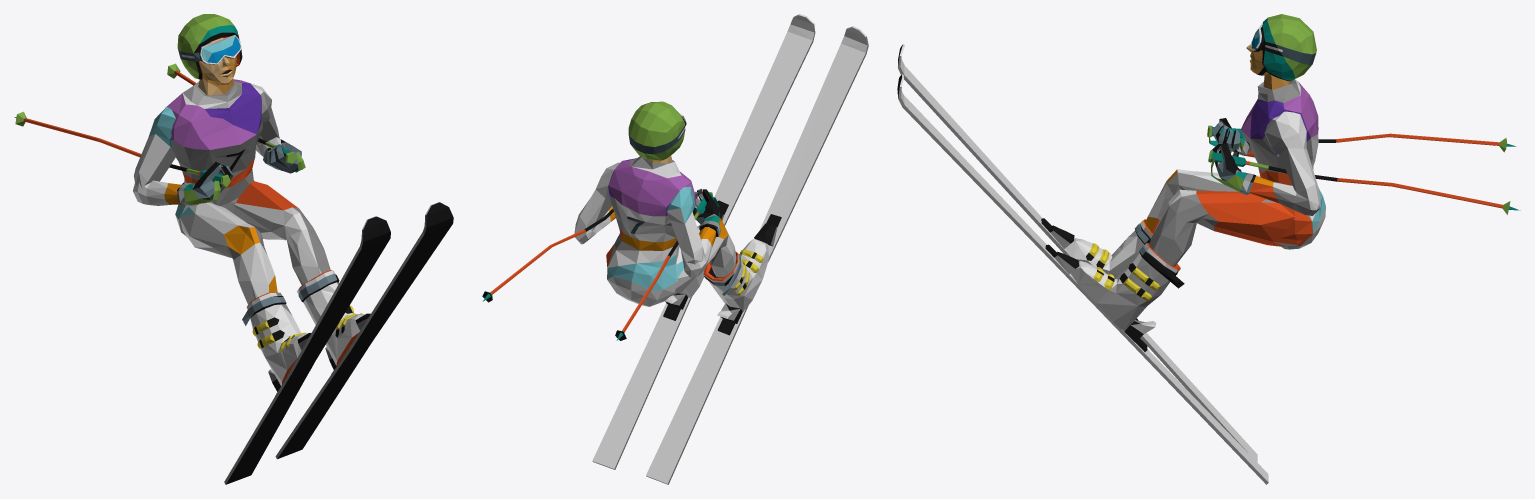
3 views of the same model, side by side, from view 1: azimuth 30°, elevation 25°; view 2: azimuth 150°, elevation 25°; view 3: azimuth 270°, elevation 25° (orthographic). The views are drawn at different scales.
Visible parts, largest first — view 1: node_MeshObject-662842368-PolyPaper13; view 2: node_MeshObject-662842368-PolyPaper13; view 3: node_MeshObject-662842368-PolyPaper13.
Part boxes in pixels (bbox=[...]): node_MeshObject-662842368-PolyPaper13: bbox=[14, 14, 453, 484]; node_MeshObject-662842368-PolyPaper13: bbox=[482, 14, 868, 484]; node_MeshObject-662842368-PolyPaper13: bbox=[897, 14, 1520, 484].
Bounding box in the file's own units: 1.92 × 5.02 × 6.45.
